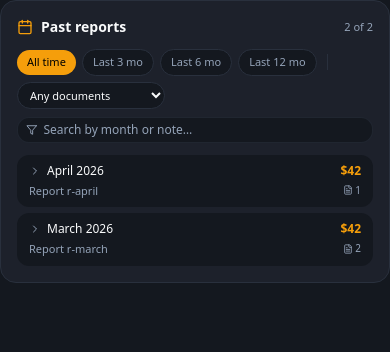
Scenario: PastReportsTimeline document linking › links each document to the matching monthly report and chat thread href
This screenshot has width=390, height=352.
Later steps or results of the test are not shown.
Expand March row → reveals the two March docs.
Click the button with test id "report-row-r-march" at (80, 228), box [29,221,361,237]
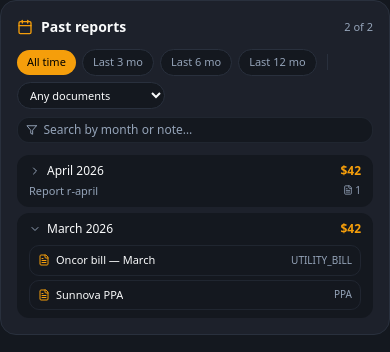
Click the button with test id "doc-link-d-mar-bill" at (106, 260), box [29,245,361,276]
Now expand April → only the April bill should appear, linked to r-april.
Click the button with test id "report-row-r-april" at (75, 170), box [29,162,361,178]
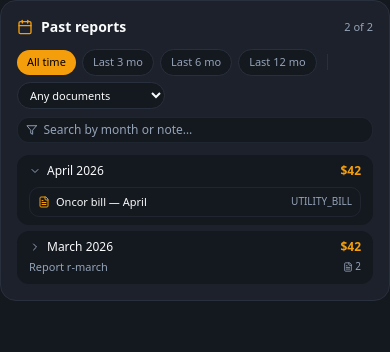
Now the button with test id "doc-link-d-mar-bill" is gone
